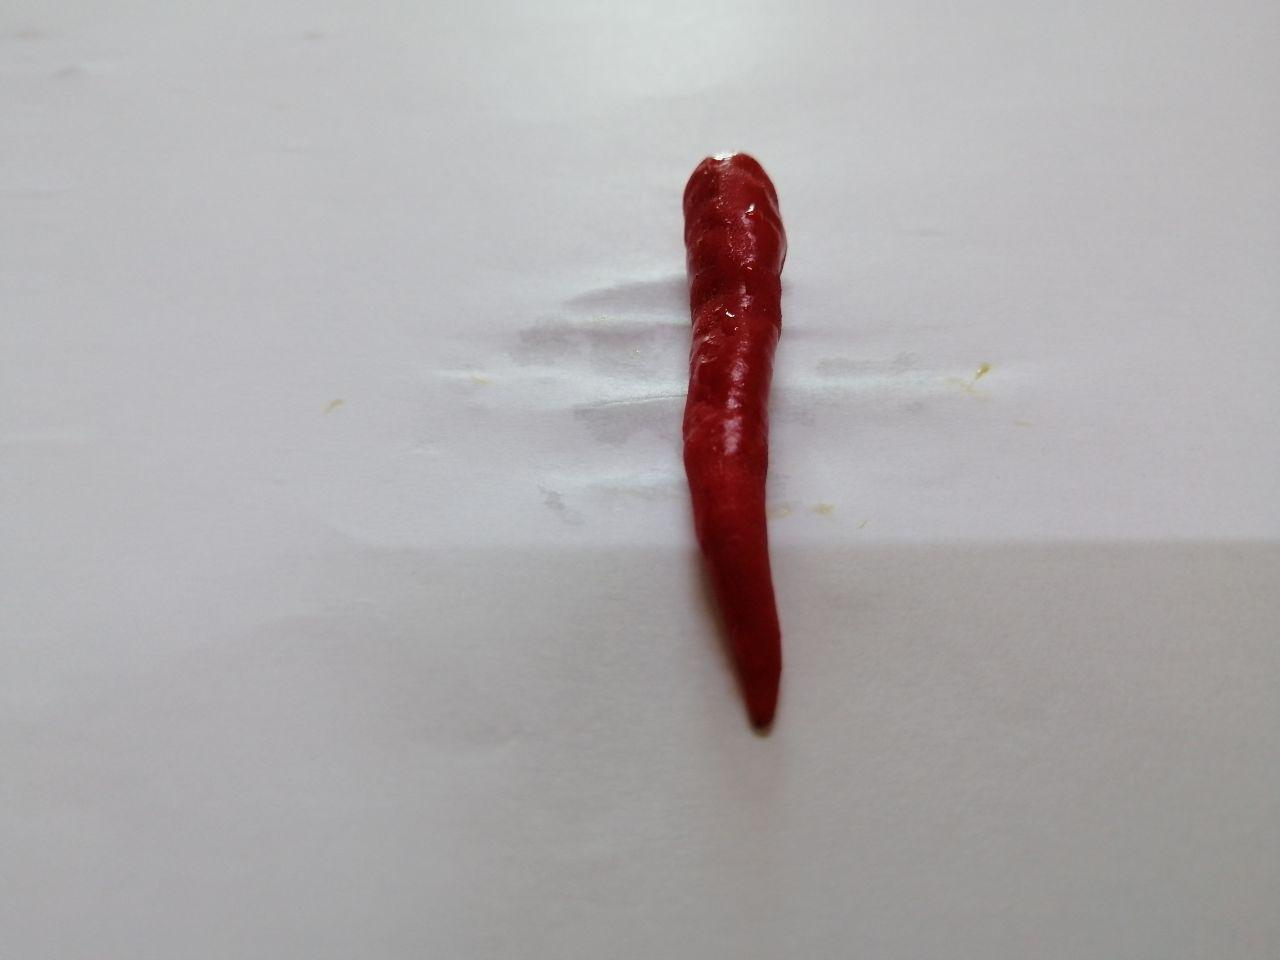lada merah: (638, 128, 846, 742)
